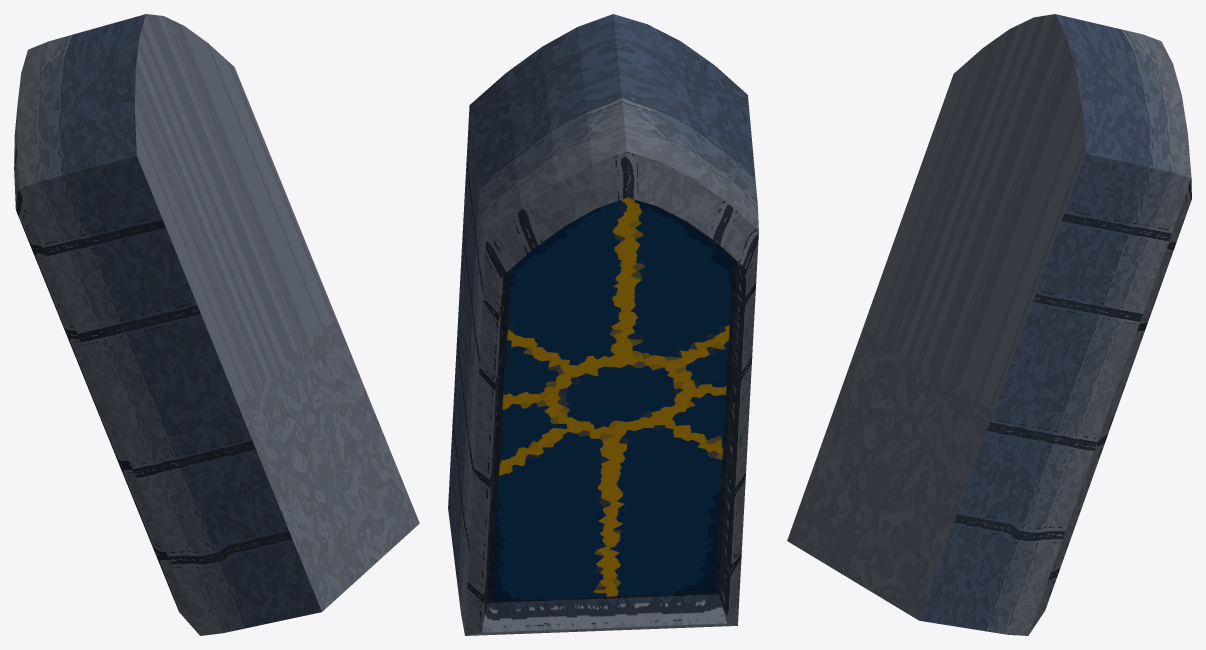
Rendered from window_manor_alt.fbx.
The picture shows the model from 3 angles, left to right: view 1: azimuth 30°, elevation 25°; view 2: azimuth 150°, elevation 25°; view 3: azimuth 270°, elevation 25°; orthographic projection. The views are drawn at different scales.
Visible parts, largest first — view 1: Cube.012; view 2: Cube.012; view 3: Cube.012.
Boxes of the visible parts, left/top/right/bottom form: Cube.012: left=14, top=14, right=419, bottom=635; Cube.012: left=448, top=14, right=758, bottom=635; Cube.012: left=787, top=14, right=1191, bottom=635.
Size of the model in its own units: 718 by 1163 by 768.
